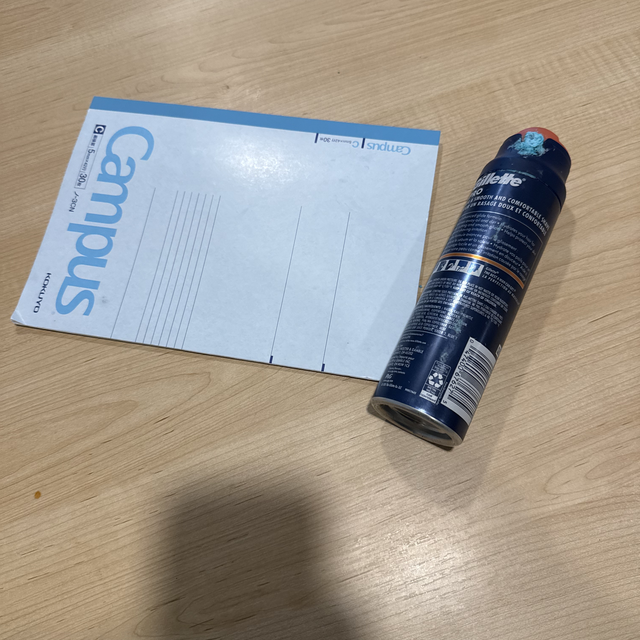Aerosol: (456, 126, 560, 332)
Paper: (39, 86, 434, 383)
